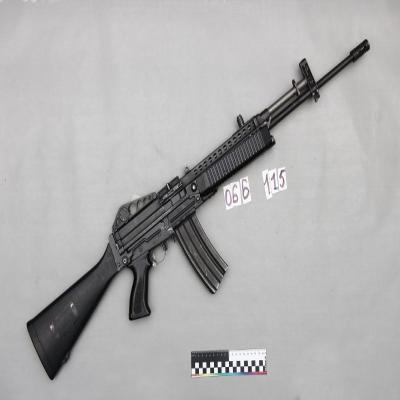weapon: (26, 41, 370, 380)
